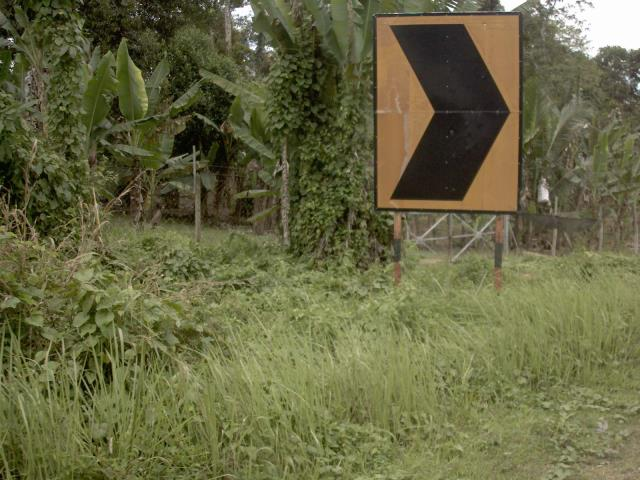traffic_sign: (349, 0, 537, 226)
